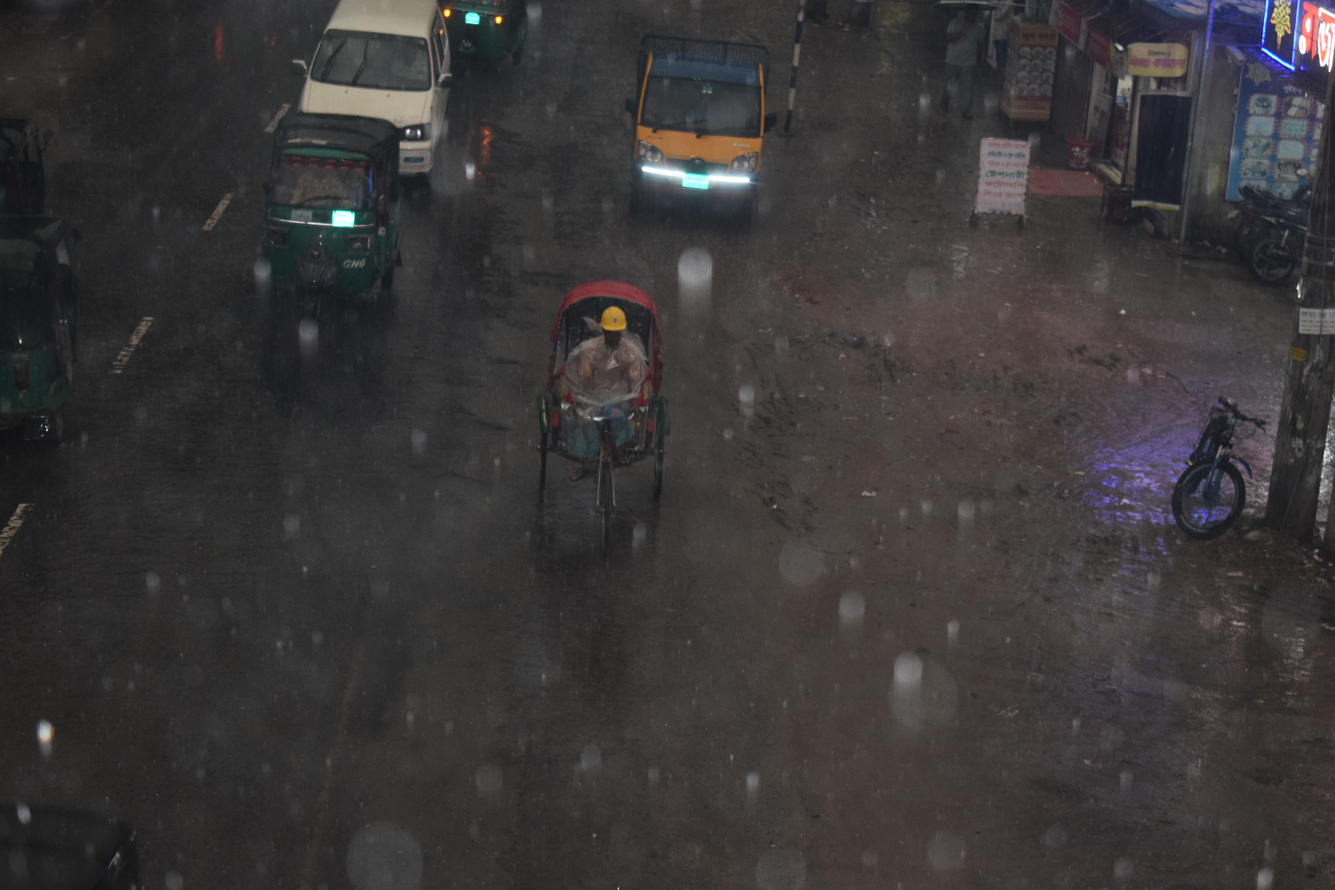Car: (480, 243, 729, 602), (284, 0, 469, 210)
Truck: (599, 18, 804, 270)
